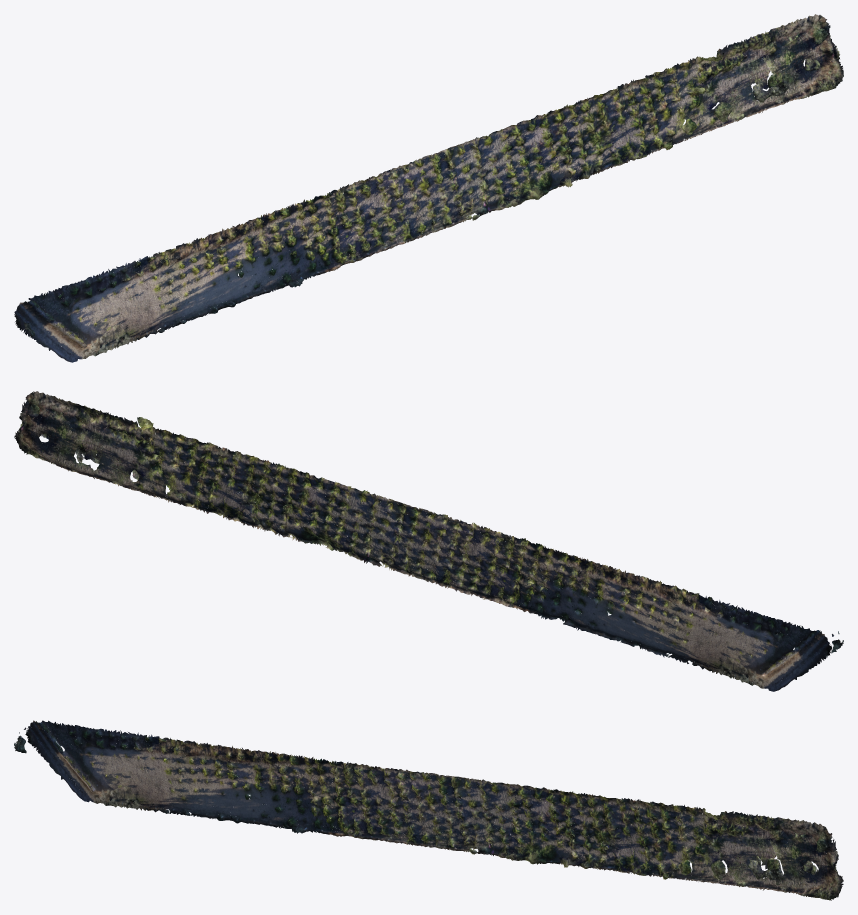
The model's file is vinedo.glb.
3 renders of one model, top to bottom at view 1: azimuth 30°, elevation 25°; view 2: azimuth 150°, elevation 25°; view 3: azimuth 330°, elevation 25°, orthographic. The views are drawn at different scales.
Parts seen in each view (by area): view 1: Mesh_0; view 2: Mesh_0; view 3: Mesh_0.
Part boxes in pixels (box(x1,y1,x2,y2)): Mesh_0: box(14, 14, 843, 362); Mesh_0: box(14, 391, 843, 691); Mesh_0: box(14, 720, 843, 900).
Bounding box in the file's own units: 180 × 29.98 × 13.93.
Materials: 1 (1 with a texture image).
